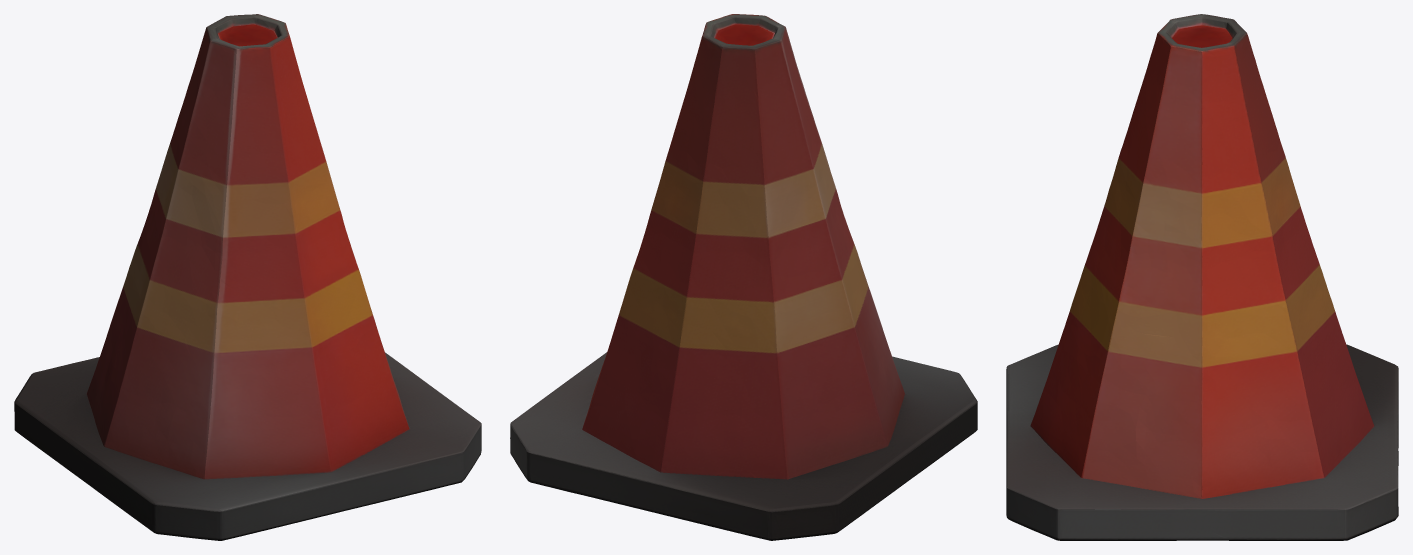
File: traffic_cone.glb
3 renders of one model, left to right at view 1: azimuth 30°, elevation 25°; view 2: azimuth 150°, elevation 25°; view 3: azimuth 270°, elevation 25°, orthographic. The views are drawn at different scales.
Parts seen in each view (by area): view 1: world; view 2: world; view 3: world.
Boxes of the visible parts, <box> form: world: <box>14,14,481,540</box>; world: <box>510,14,977,540</box>; world: <box>1006,14,1398,540</box>.
Size of the model in its own units: 0.8357 by 1 by 0.834.
Materials: 1 (1 with a texture image).
